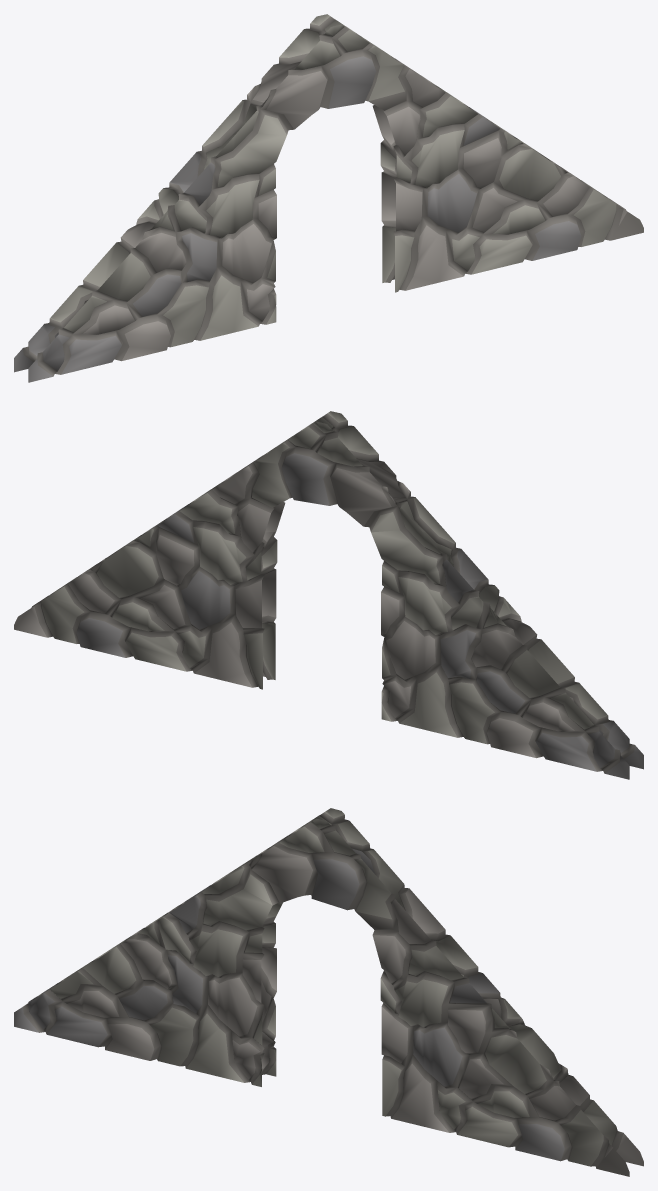
File: rpgpp_ag_roof_end_01_9x4_wall_door_03c.fbx
The picture shows the model from 3 angles, top to bottom: view 1: azimuth 30°, elevation 25°; view 2: azimuth 150°, elevation 25°; view 3: azimuth 330°, elevation 25°; orthographic projection.
Parts seen in each view (by area): view 1: rpgpp_ag_roof_end_01_9x4_wall_door_03c; view 2: rpgpp_ag_roof_end_01_9x4_wall_door_03c; view 3: rpgpp_ag_roof_end_01_9x4_wall_door_03c.
Boxes of the visible parts, <box> form: rpgpp_ag_roof_end_01_9x4_wall_door_03c: <box>14,14,643,382</box>; rpgpp_ag_roof_end_01_9x4_wall_door_03c: <box>14,411,643,779</box>; rpgpp_ag_roof_end_01_9x4_wall_door_03c: <box>14,808,643,1176</box>.
Bounding box in the file's own units: 9 × 3.94 × 0.4229.
